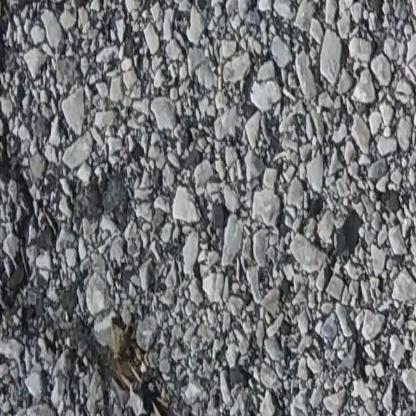Cracks: (0, 130, 200, 416)
